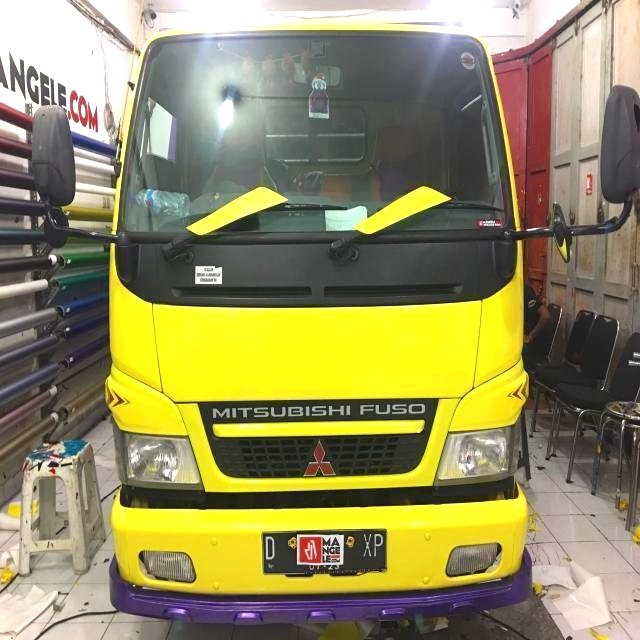truck: (16, 9, 640, 631)
